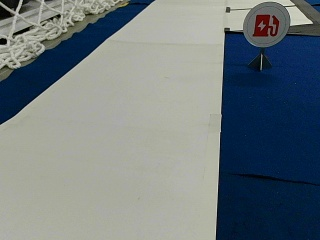battery: (242, 1, 290, 47)
